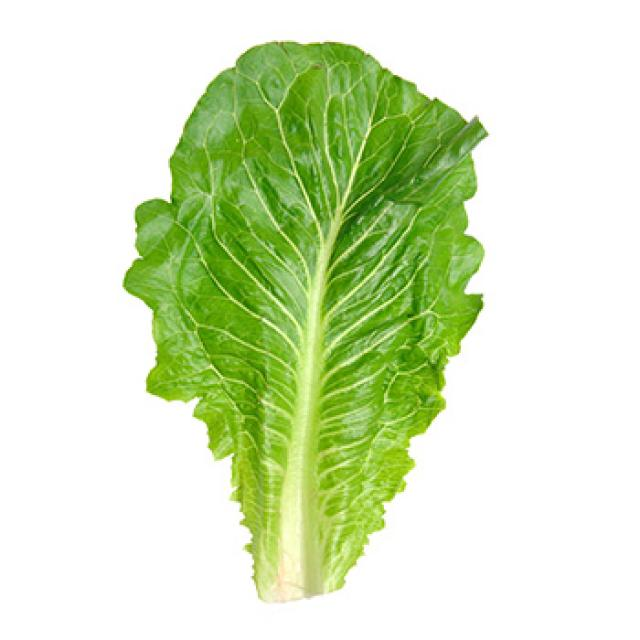lettuce: (121, 39, 488, 604)
